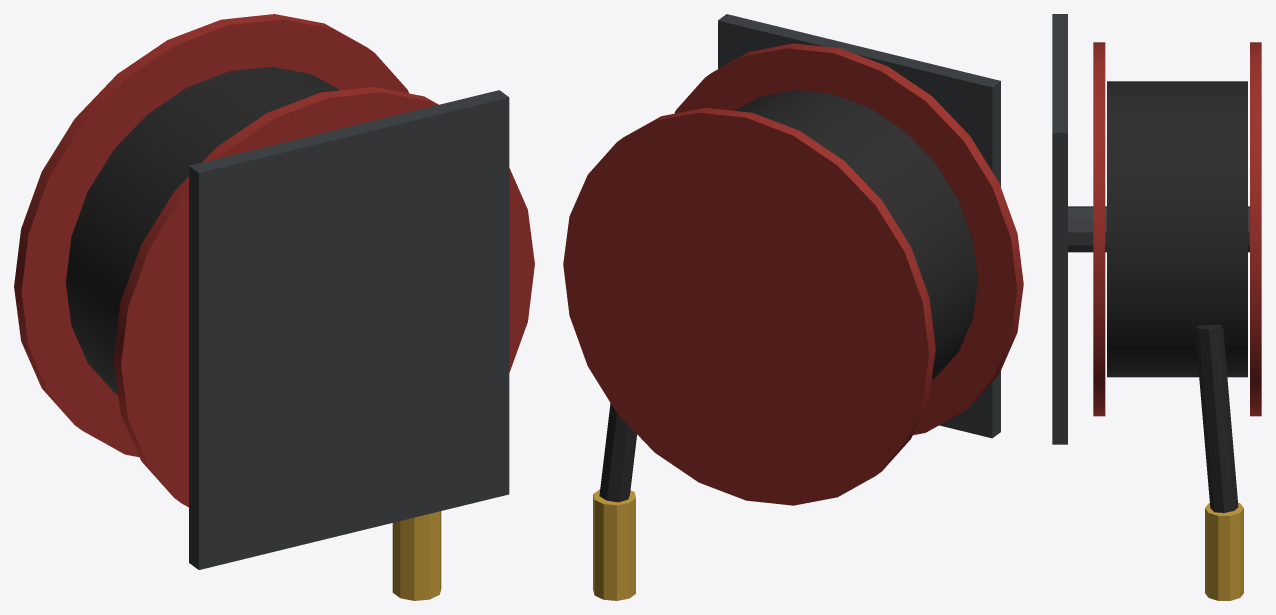
File: prop_hose_reel.glb
The picture shows the model from 3 angles, left to right: view 1: azimuth 30°, elevation 25°; view 2: azimuth 150°, elevation 25°; view 3: azimuth 270°, elevation 25°; orthographic projection. The views are drawn at different scales.
Parts seen in each view (by area): view 1: Reel; view 2: Reel; view 3: Reel.
Part boxes in pixels (x1=…): Reel: x1=14, y1=14, x2=534, y2=600; Reel: x1=563, y1=14, x2=1023, y2=600; Reel: x1=1052, y1=14, x2=1261, y2=600.
Bounding box in the file's own units: 0.48 × 0.66 × 0.2675.
